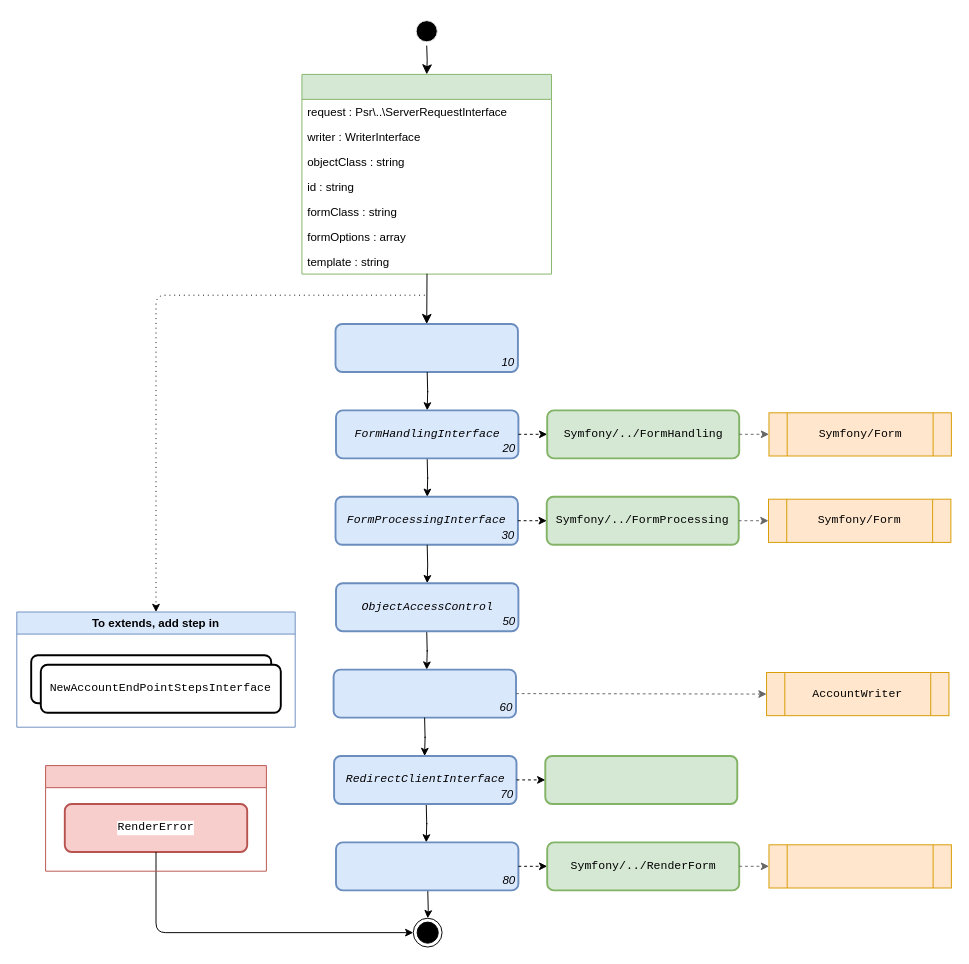
The diagram is 969 pixels wide and 964 high, and some of its shapes have lost their labels. Each missing label, with the box of its shape:
CreateObject: (334, 323, 518, 372)
Ingredient: (301, 73, 552, 274)
On Error: (45, 765, 266, 871)
RenderFormInterface: (335, 841, 519, 891)
SaveObject: (332, 668, 516, 718)
Symfony/../RedirectClient: (544, 755, 738, 804)
Symfony/Twig: (768, 844, 951, 888)
